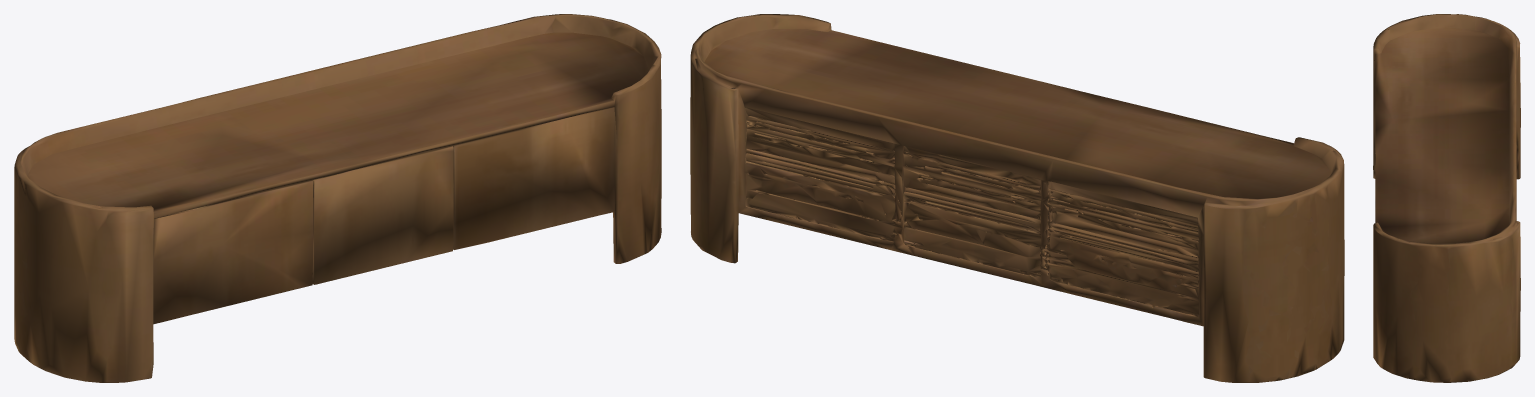
File: HHsIqgE_qwViz5mE9bzPW.glb
The picture shows the model from 3 angles, left to right: view 1: azimuth 30°, elevation 25°; view 2: azimuth 150°, elevation 25°; view 3: azimuth 270°, elevation 25°; orthographic projection. The views are drawn at different scales.
Parts seen in each view (by area): view 1: geometry_0; view 2: geometry_0; view 3: geometry_0.
Boxes of the visible parts, <box> form: geometry_0: <box>14,14,661,382</box>; geometry_0: <box>690,14,1344,382</box>; geometry_0: <box>1373,14,1520,382</box>.
Size of the model in its own units: 1 by 0.277 by 0.2683.
Materials: 1 (1 with a texture image).
